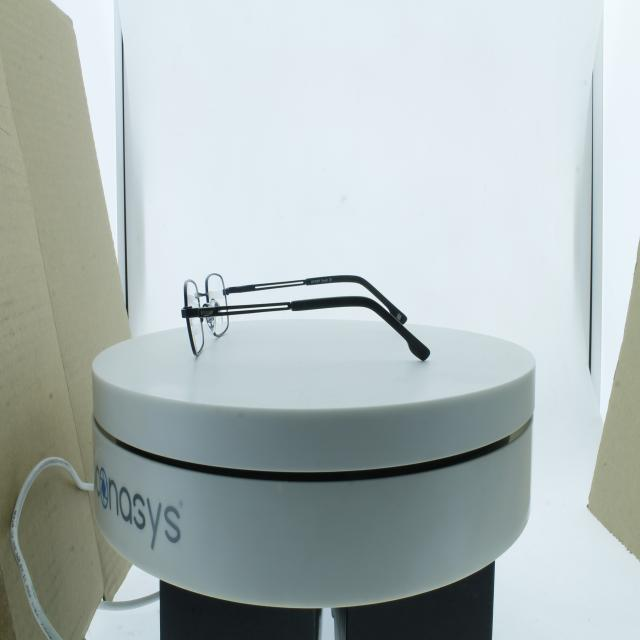Specs: (165, 238, 445, 387)
